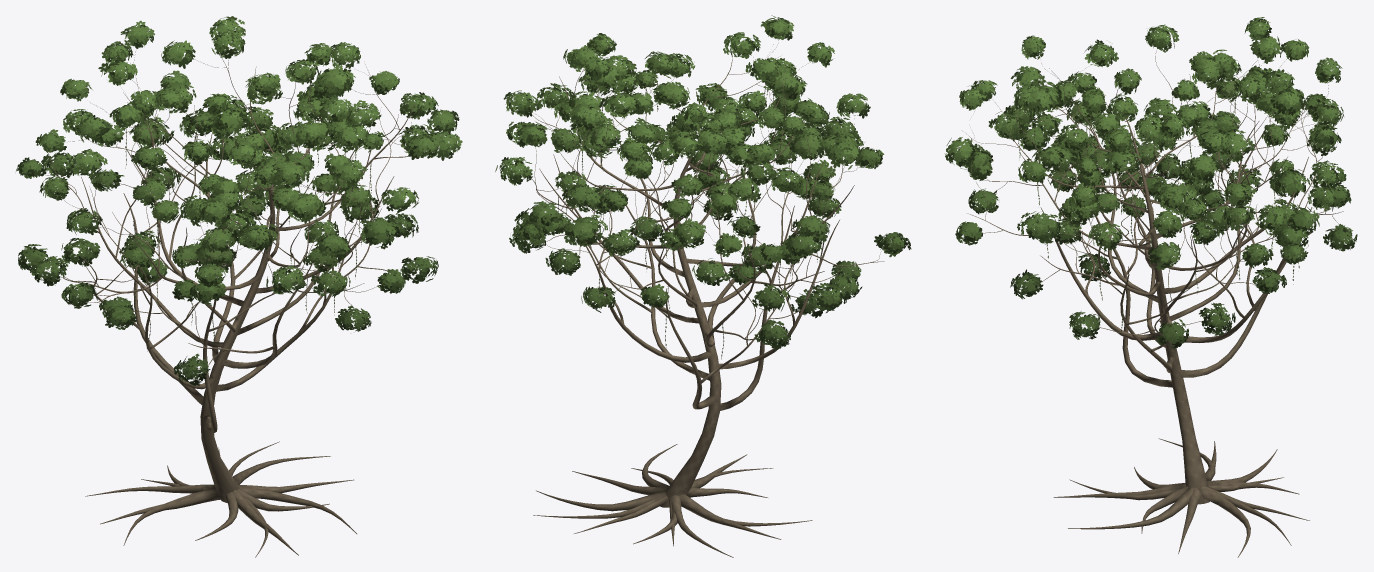
Rendered from tree.gltf.
3 renders of one model, left to right at view 1: azimuth 30°, elevation 25°; view 2: azimuth 150°, elevation 25°; view 3: azimuth 270°, elevation 25°, orthographic. The views are drawn at different scales.
Visible parts, largest first — view 1: Tree_LOD0; view 2: Tree_LOD0; view 3: Tree_LOD0.
Boxes of the visible parts, box(x1,y1,x2,y2) form: Tree_LOD0: box(16, 16, 462, 557); Tree_LOD0: box(495, 15, 911, 557); Tree_LOD0: box(944, 17, 1357, 557).
Size of the model in its own units: 102 by 114 by 98.24.
2 materials, 2 textured.
